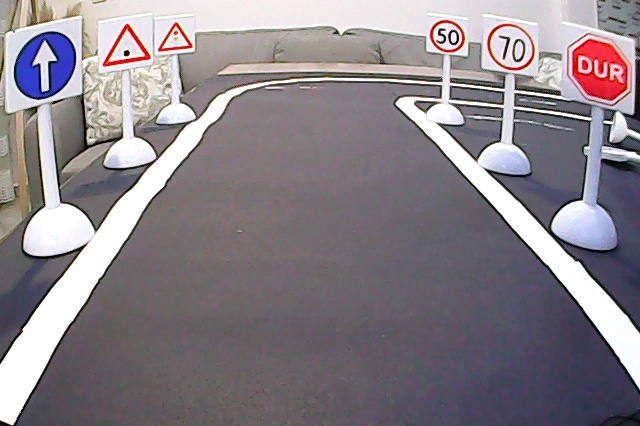green light: (101, 22, 154, 69)
red light: (156, 16, 195, 54)
speed limit 50: (428, 14, 470, 56)
speed limit 70: (485, 17, 538, 75)
stop sign: (563, 26, 634, 110)
